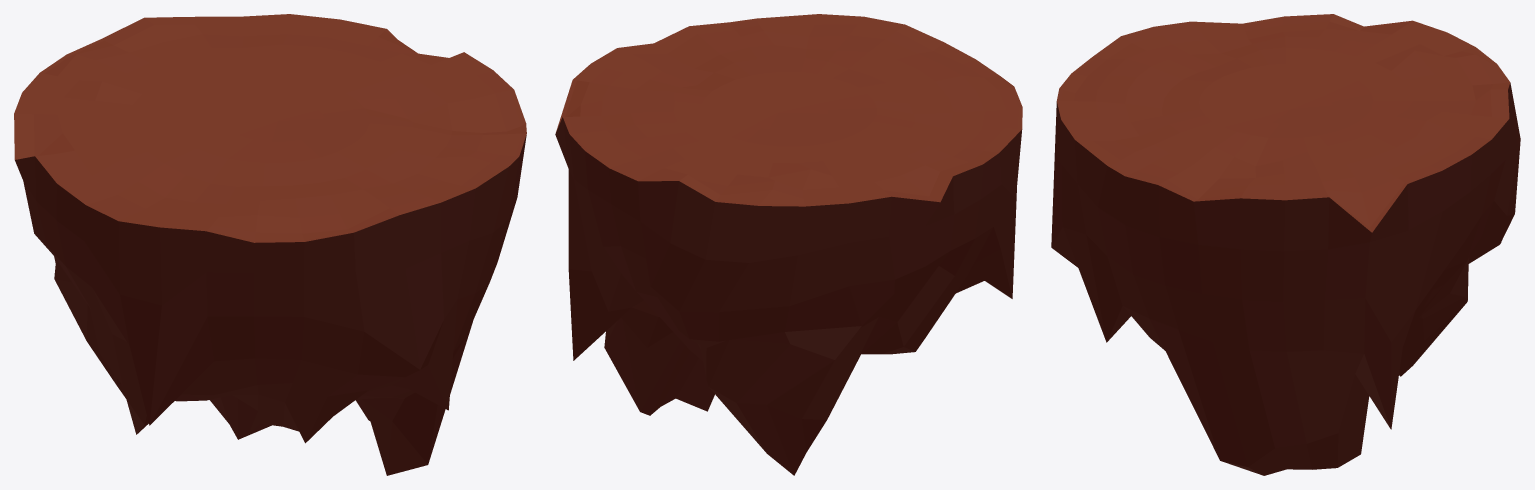
Rendered from Ground.glb.
3 renders of one model, left to right at view 1: azimuth 30°, elevation 25°; view 2: azimuth 150°, elevation 25°; view 3: azimuth 270°, elevation 25°, orthographic. The views are drawn at different scales.
Parts seen in each view (by area): view 1: Sphere; view 2: Sphere; view 3: Sphere.
Boxes of the visible parts, x1,y1,x2,y2 form: Sphere: [14, 14, 526, 475]; Sphere: [555, 14, 1022, 475]; Sphere: [1051, 14, 1520, 475].
Bounding box in the file's own units: 5.64 × 4.73 × 5.91.
